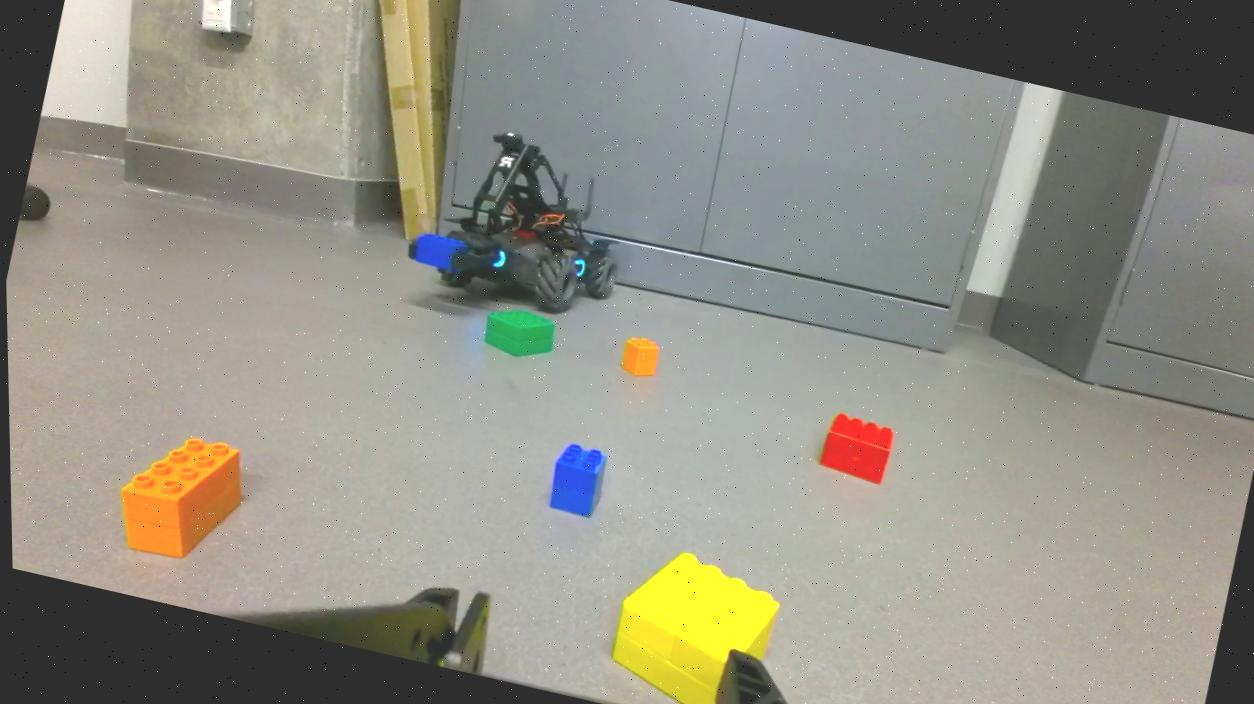2x2lego: (540, 438, 613, 522), (615, 331, 662, 382)
2x4lego: (103, 423, 254, 570)
4x4lego: (595, 541, 786, 704), (811, 409, 898, 484), (478, 298, 559, 364)
